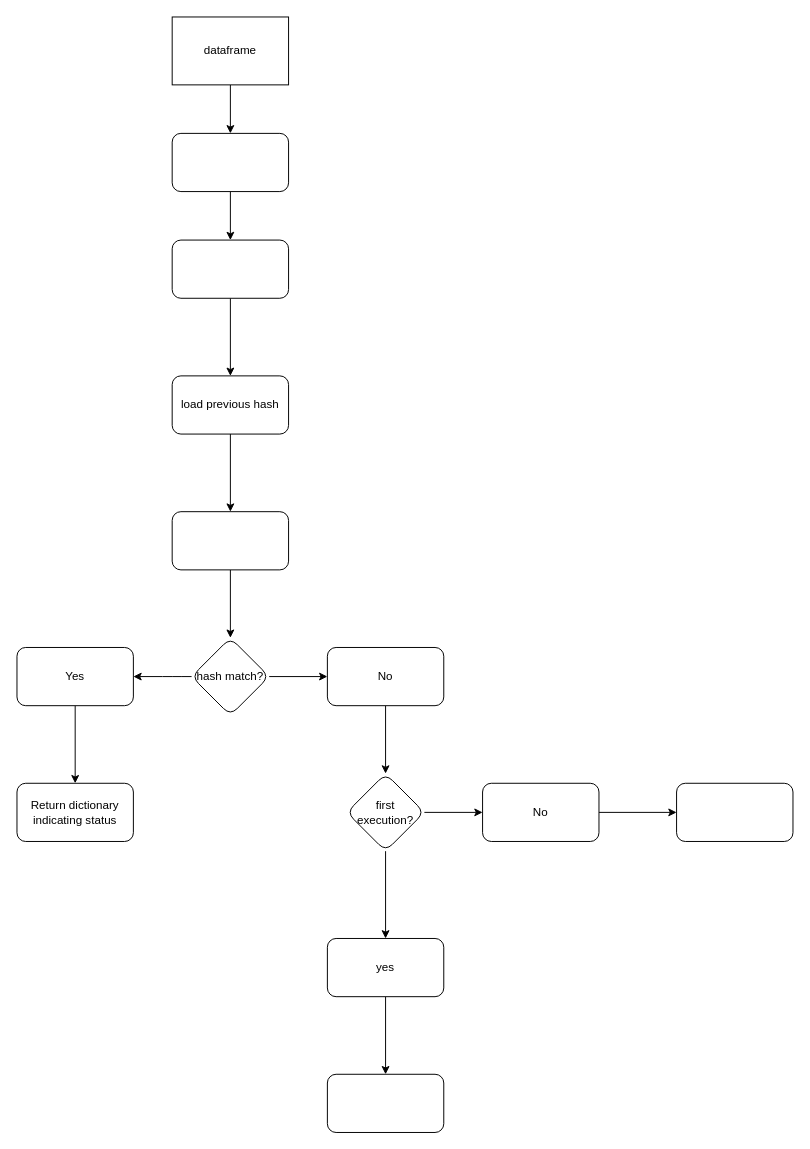
The diagram is 810 pixels wide and 1149 high, and some of its shapes have lost their labels. Each missing label, with the centre of its shape:
"calculate hash" goes at pixel 230 268.
"compare hashes" goes at pixel 230 540.
"integrity_check" goes at pixel 230 162.
"return dic indicating anomaly detected in hash" goes at pixel 734 811.
"save current hash" goes at pixel 385 1102.
